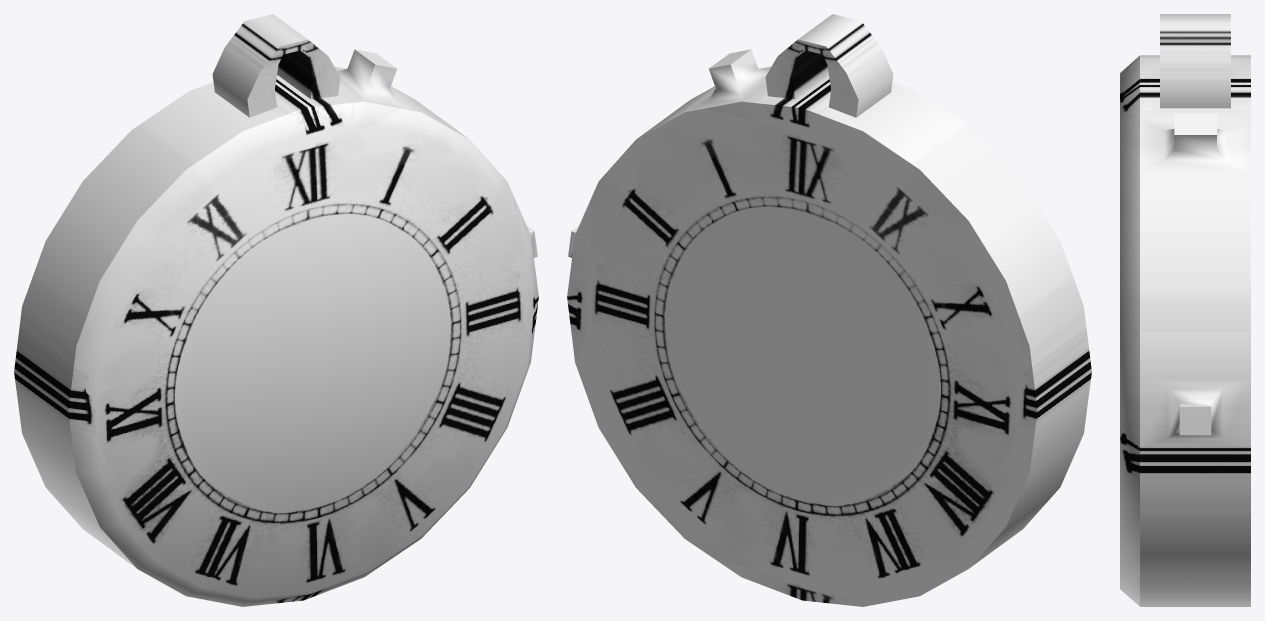
File: Clock.fbx
3 views of the same model, side by side, from view 1: azimuth 30°, elevation 25°; view 2: azimuth 150°, elevation 25°; view 3: azimuth 270°, elevation 25° (orthographic).
Parts seen in each view (by area): view 1: Cylinder_2; view 2: Cylinder_2; view 3: Cylinder_2.
Part boxes in pixels (x1,y1,x2,y2): Cylinder_2: (14,14,538,606); Cylinder_2: (567,14,1091,606); Cylinder_2: (1120,14,1250,606).
Size of the model in its own units: 20.78 by 22.35 by 4.72.
Materials: 1 (1 with a texture image).
